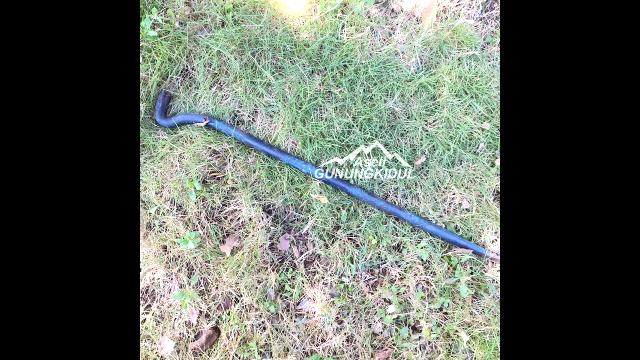crow bar: (146, 84, 498, 276)
